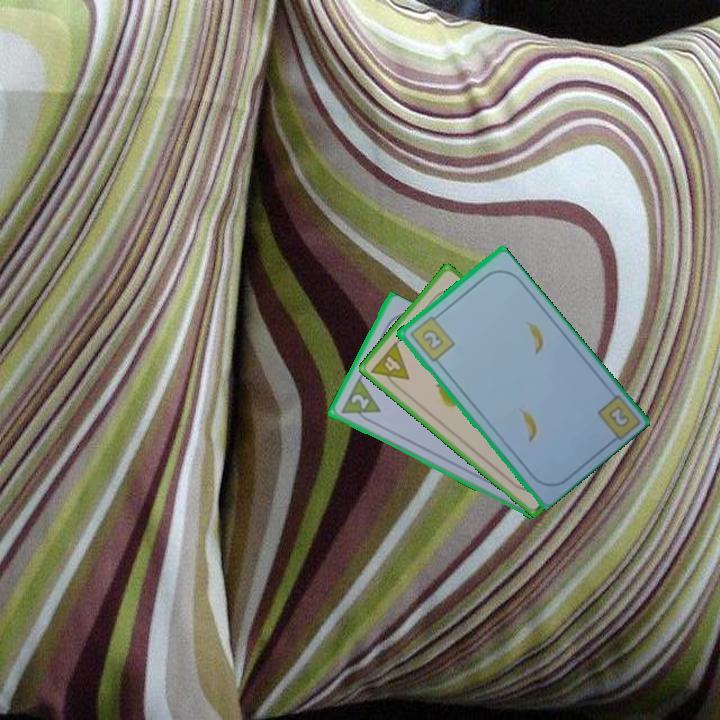2b: (406, 310, 457, 364), (604, 402, 633, 430)
2p: (347, 390, 372, 412)
4p: (367, 338, 412, 393)
